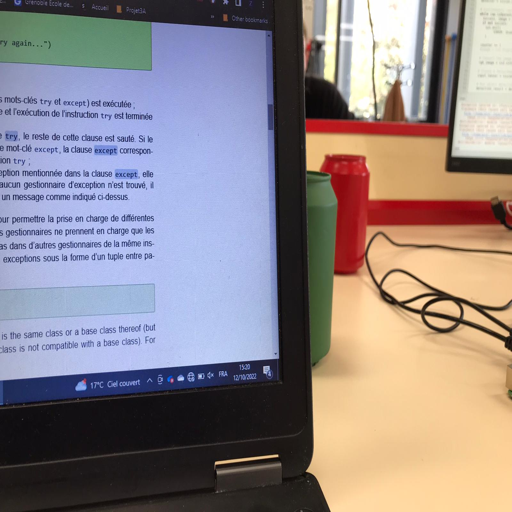Green_Can: (293, 170, 335, 370)
Red_Can: (319, 149, 370, 276)
